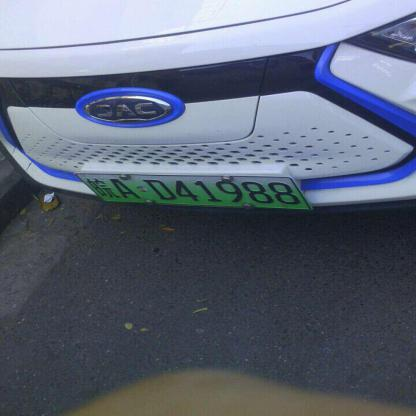lp: (75, 172, 311, 209)
